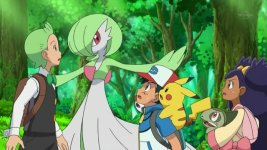gardevoir: (61, 14, 142, 150)
pikachu: (156, 75, 213, 133)
